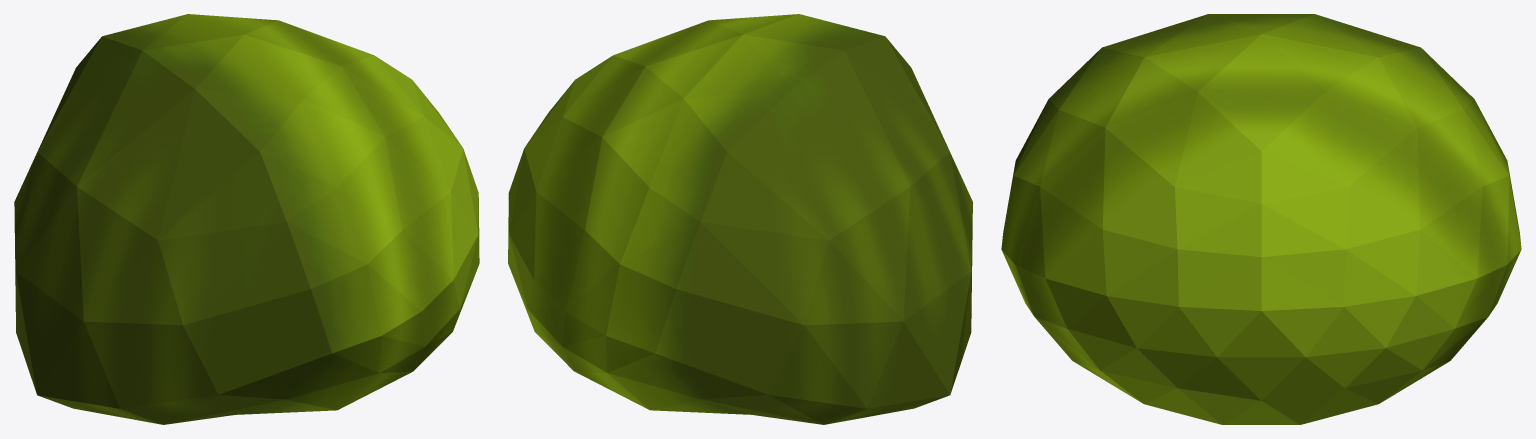
File: ant3.obj
The picture shows the model from 3 angles, left to right: view 1: azimuth 30°, elevation 25°; view 2: azimuth 150°, elevation 25°; view 3: azimuth 270°, elevation 25°; orthographic projection.
Parts seen in each view (by area): view 1: ColobotMesh_1_ColobotMesh_; view 2: ColobotMesh_1_ColobotMesh_; view 3: ColobotMesh_1_ColobotMesh_.
Part boxes in pixels (box(x1,y1,x2,y2)): ColobotMesh_1_ColobotMesh_: box(14, 14, 479, 424); ColobotMesh_1_ColobotMesh_: box(508, 14, 972, 424); ColobotMesh_1_ColobotMesh_: box(1001, 14, 1521, 424).
Size of the model in its own units: 2.74 by 2.21 by 2.93.
